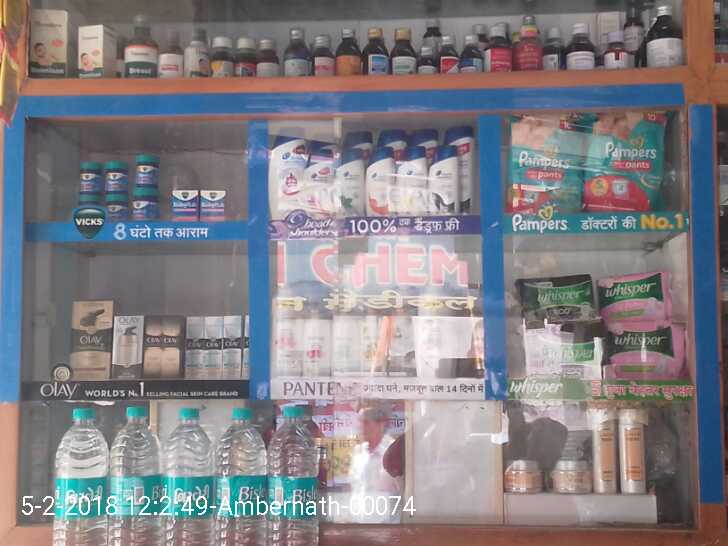vicks: (77, 154, 231, 228)
